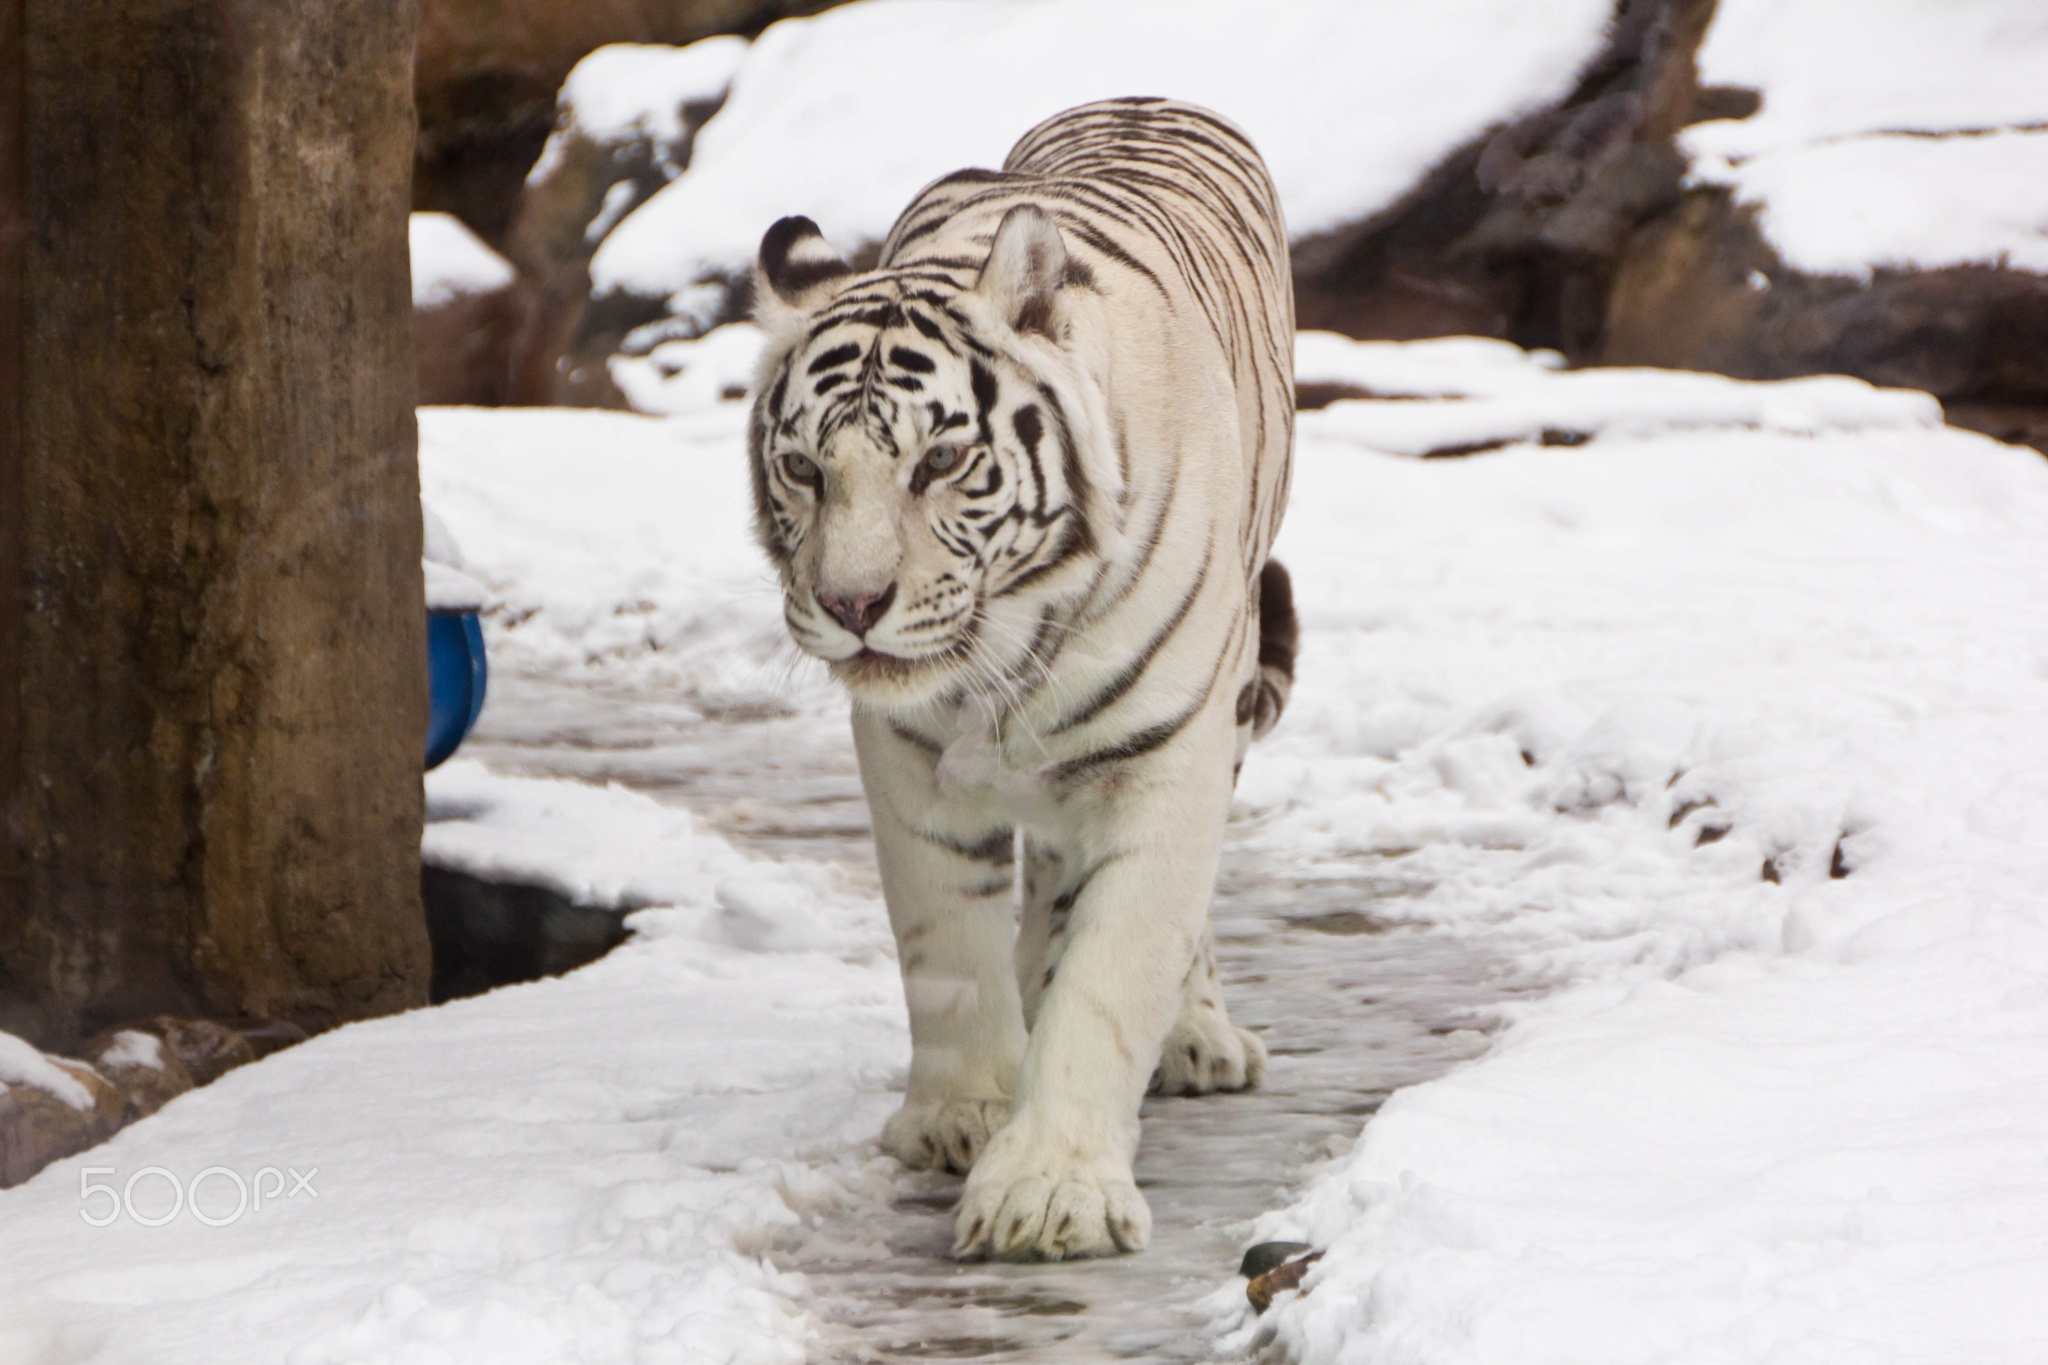tiger: (738, 61, 1363, 1319)
